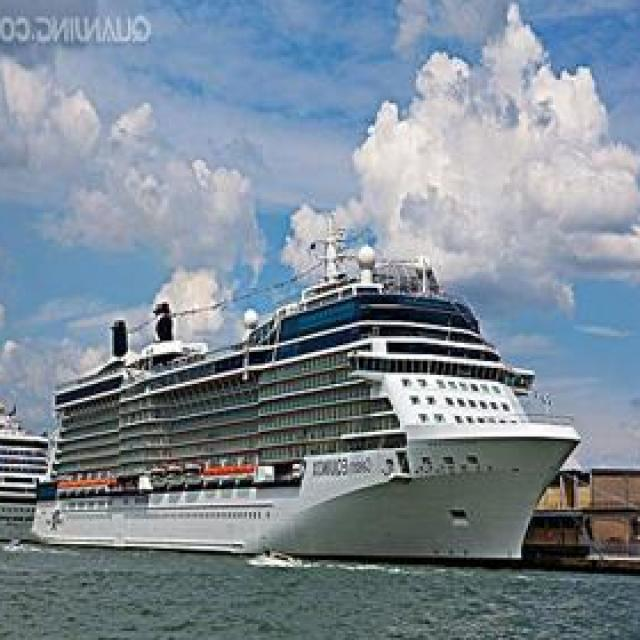passenger ship: (37, 243, 578, 562), (0, 388, 51, 546)
